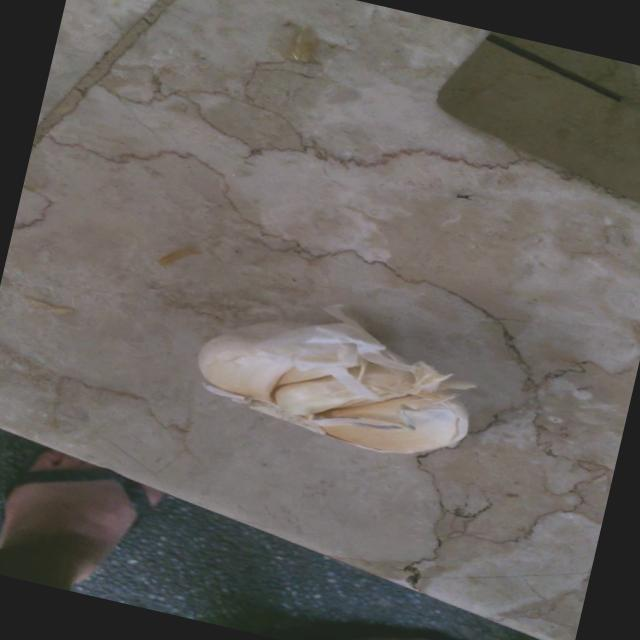bawang: (174, 278, 499, 478)
